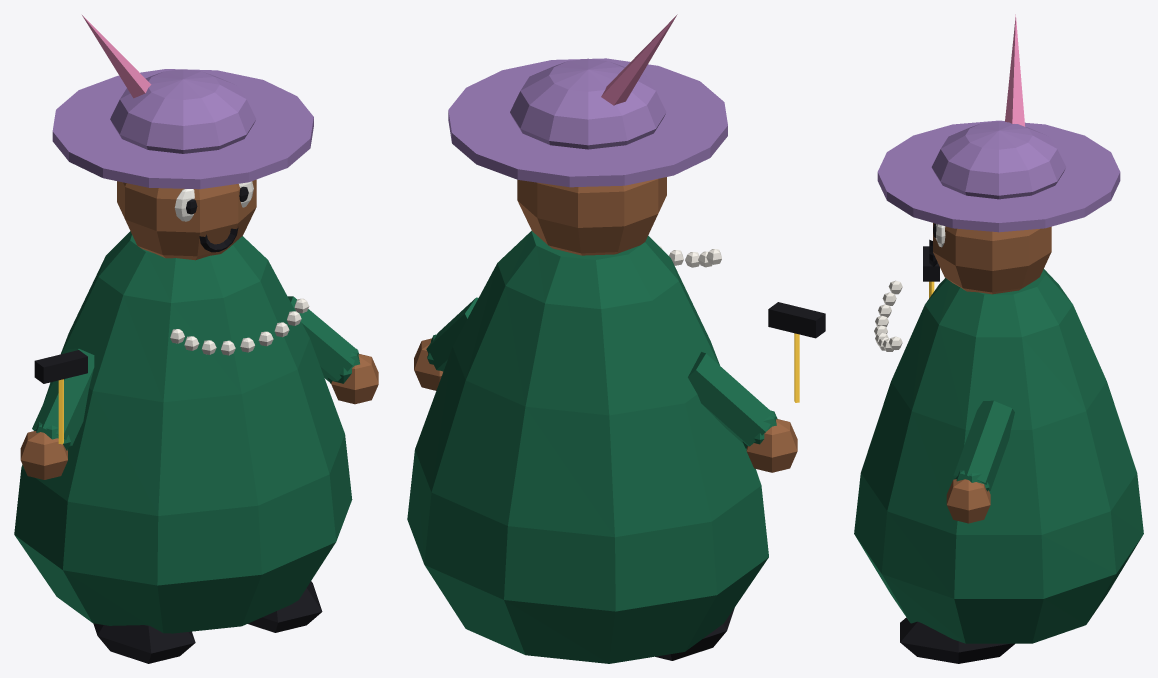
The model's file is npc_compradora.glb.
The picture shows the model from 3 angles, left to right: view 1: azimuth 30°, elevation 25°; view 2: azimuth 150°, elevation 25°; view 3: azimuth 270°, elevation 25°; orthographic projection. The views are drawn at different scales.
Visible parts, largest first — view 1: body_dress_emerald, cap_hat_lilac, head_skin_cacao, arms_dress_emerald, legs_black, arms_skin_cacao, props_black, cap_feather_pink, face_black, face_white; view 2: body_dress_emerald, cap_hat_lilac, head_skin_cacao, arms_dress_emerald, arms_skin_cacao, props_black, cap_feather_pink, legs_black; view 3: body_dress_emerald, cap_hat_lilac, head_skin_cacao, arms_dress_emerald, legs_black, arms_skin_cacao, cap_feather_pink.
Boxes of the visible parts, x1,y1,x2,y2 form: body_dress_emerald: (14, 231, 352, 633); cap_hat_lilac: (52, 69, 313, 189); head_skin_cacao: (117, 179, 256, 260); arms_dress_emerald: (32, 296, 359, 450); legs_black: (93, 581, 322, 663); arms_skin_cacao: (20, 354, 378, 479); props_black: (34, 350, 87, 383); cap_feather_pink: (82, 15, 151, 98); face_black: (186, 186, 248, 252); face_white: (174, 181, 253, 221); body_dress_emerald: (407, 230, 768, 663); cap_hat_lilac: (448, 58, 727, 187); head_skin_cacao: (517, 177, 666, 255); arms_dress_emerald: (426, 297, 777, 448); arms_skin_cacao: (414, 338, 797, 472); props_black: (768, 302, 825, 338); cap_feather_pink: (601, 14, 677, 105); legs_black: (655, 607, 734, 660); body_dress_emerald: (854, 269, 1143, 643); cap_hat_lilac: (877, 120, 1120, 232); head_skin_cacao: (933, 223, 1051, 294); arms_dress_emerald: (953, 400, 1014, 491); legs_black: (900, 617, 1014, 663); arms_skin_cacao: (946, 479, 990, 523); cap_feather_pink: (1005, 14, 1025, 126).
Size of the model in its own units: 1.13 by 1.88 by 0.86.
